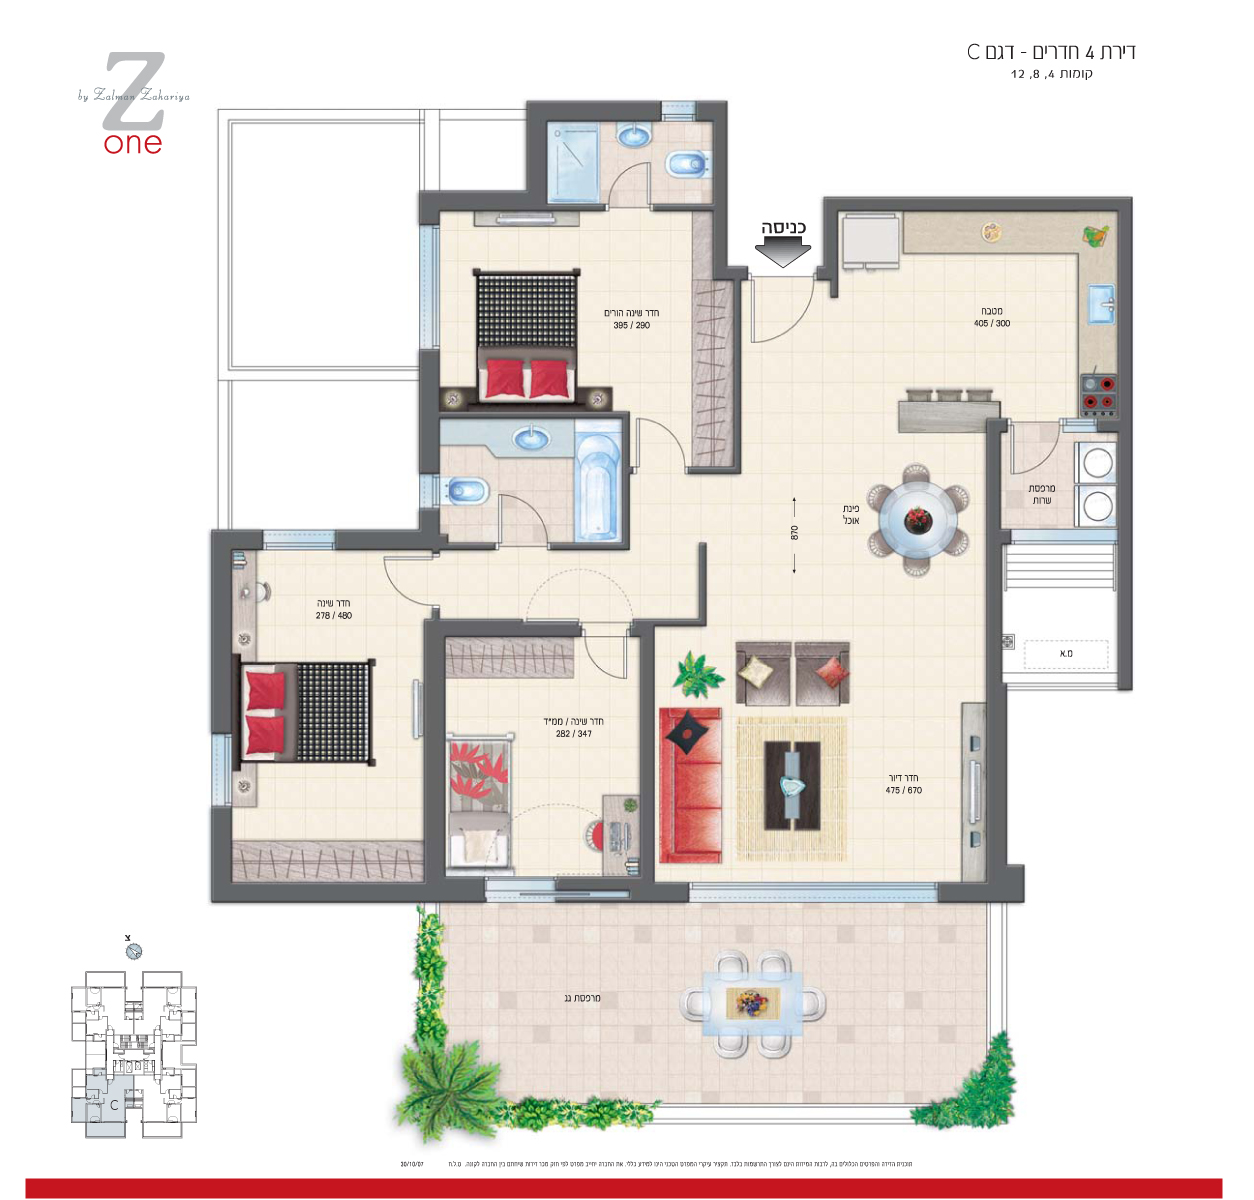door: (747, 288, 821, 354), (376, 552, 425, 611), (492, 487, 551, 534), (631, 410, 686, 460), (1007, 437, 1060, 480), (582, 647, 631, 687)
wall: (425, 620, 448, 882), (231, 881, 480, 903), (640, 619, 656, 903), (988, 687, 1007, 906), (986, 419, 1001, 692), (212, 529, 231, 735), (712, 102, 732, 279), (423, 620, 584, 637), (419, 351, 440, 471), (420, 190, 545, 210), (734, 268, 745, 475), (336, 529, 444, 549), (210, 807, 232, 902), (528, 103, 663, 118), (528, 101, 545, 206), (821, 196, 840, 279), (699, 544, 705, 621)
window: (690, 884, 938, 901), (420, 226, 439, 343), (488, 876, 552, 901), (212, 732, 230, 805), (264, 531, 333, 547), (420, 474, 437, 505)
